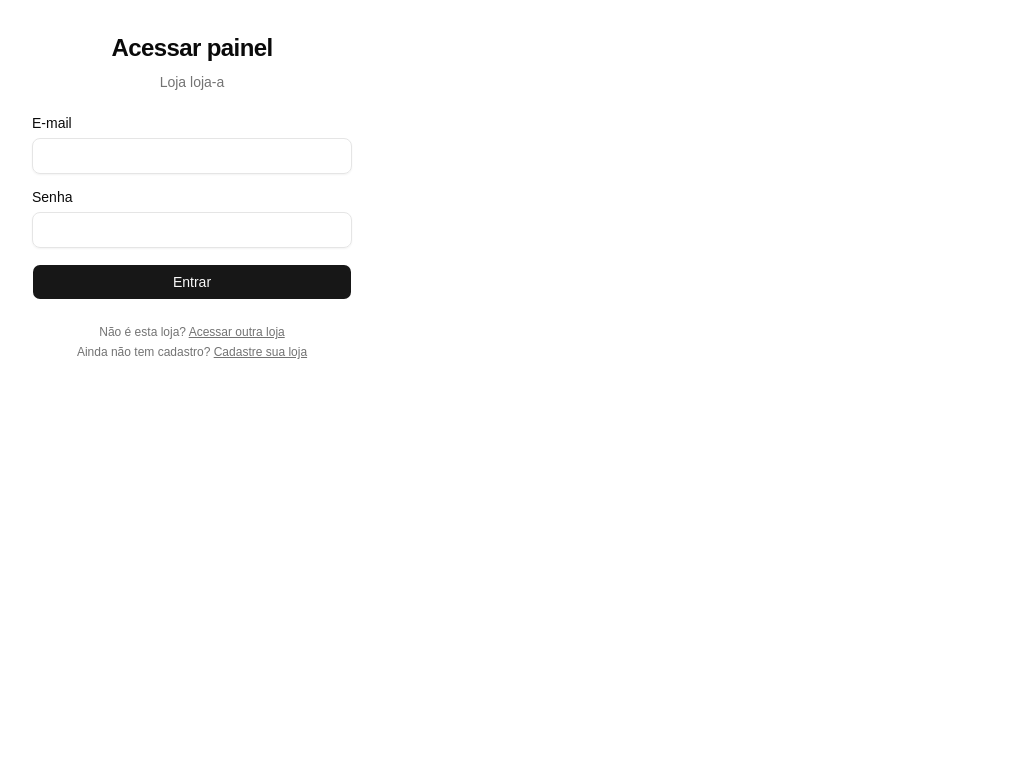
Test: Sign In › should say when the email or the password is wrong
Type "maria@loja-a.com" into the field labelled "E-mail" at (192, 156), box [32,138,352,174]
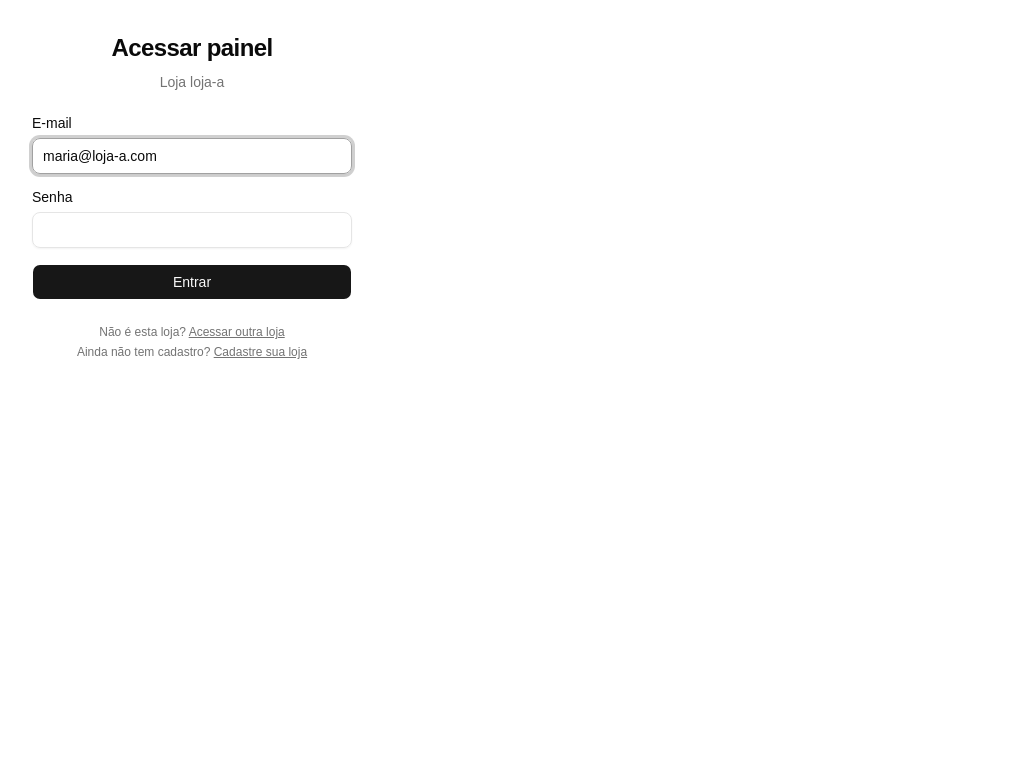
Type "errada" into the password field labelled "Senha" at (192, 230), box [32,212,352,248]
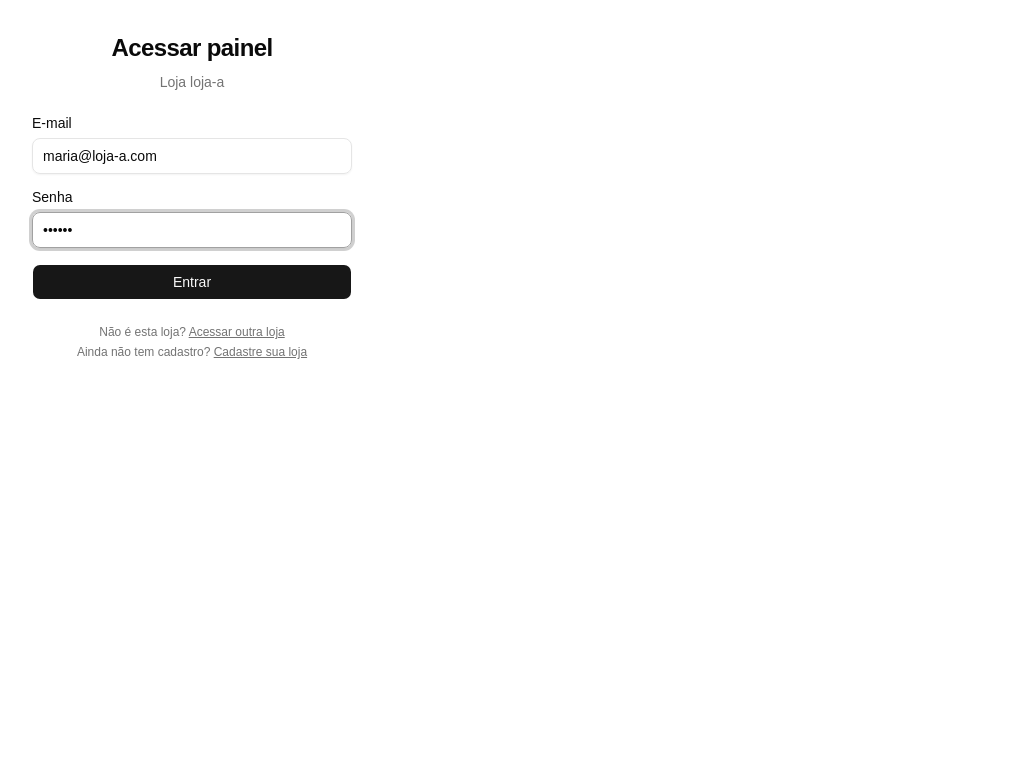
Click the button "Entrar" at (192, 282), box [32,264,352,300]
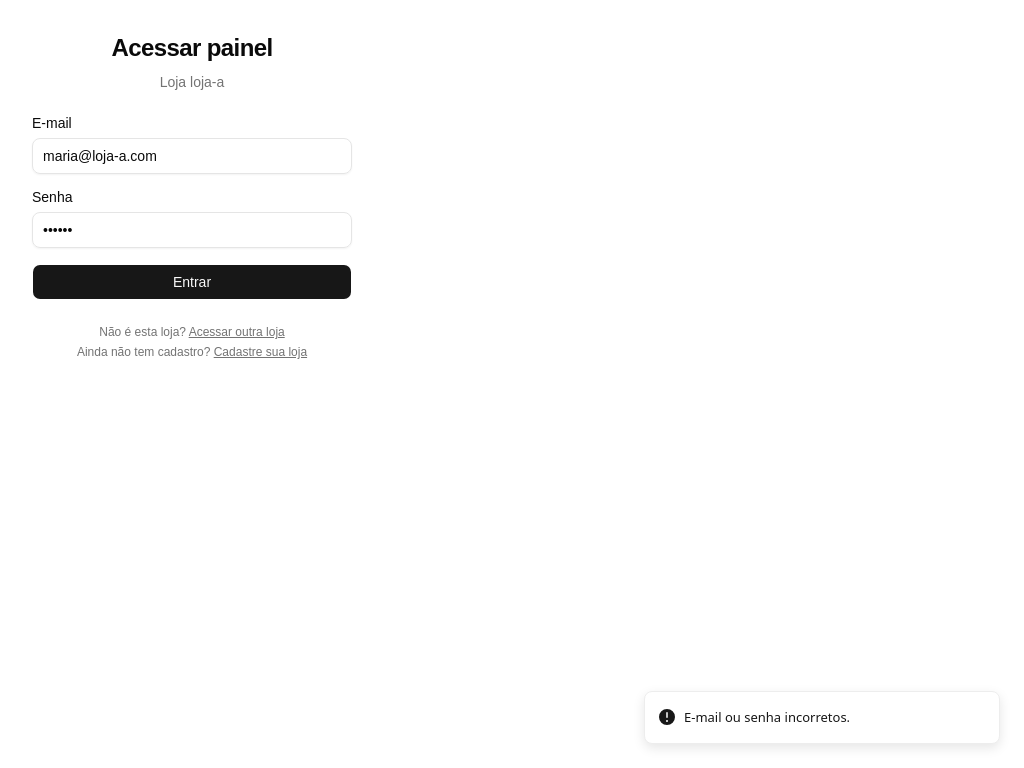
Now the text "E-mail ou senha incorretos." is shown, box [684,708,850,727]
